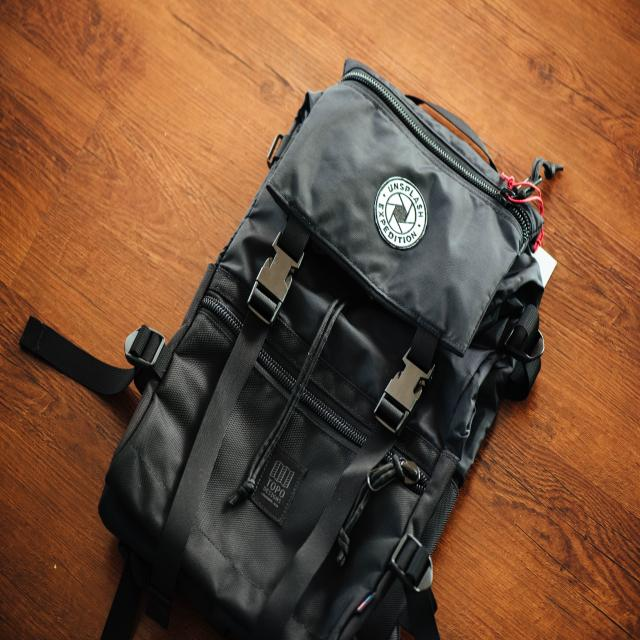backpack: (112, 54, 544, 640)
